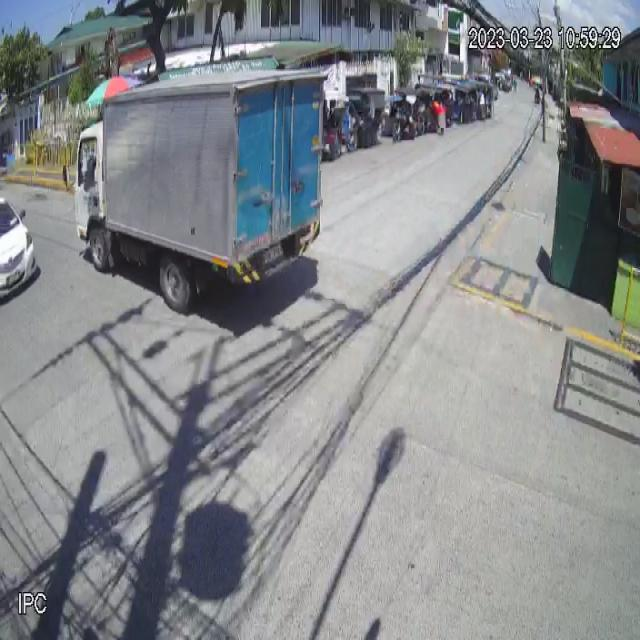Truck: (61, 71, 330, 315)
